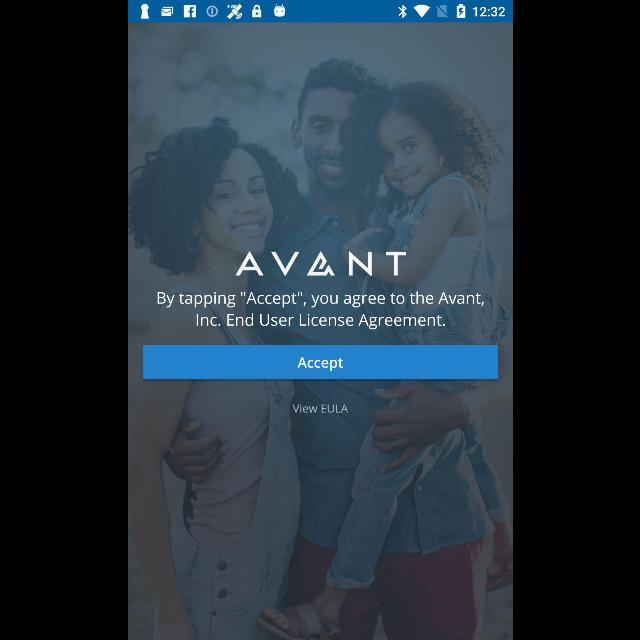backgroundimage: (128, 22, 512, 640)
image: (234, 251, 406, 277)
text: (156, 292, 484, 331), (288, 403, 348, 415)
textbutton: (142, 345, 498, 379)
uppertaskbar: (128, 1, 512, 23)
